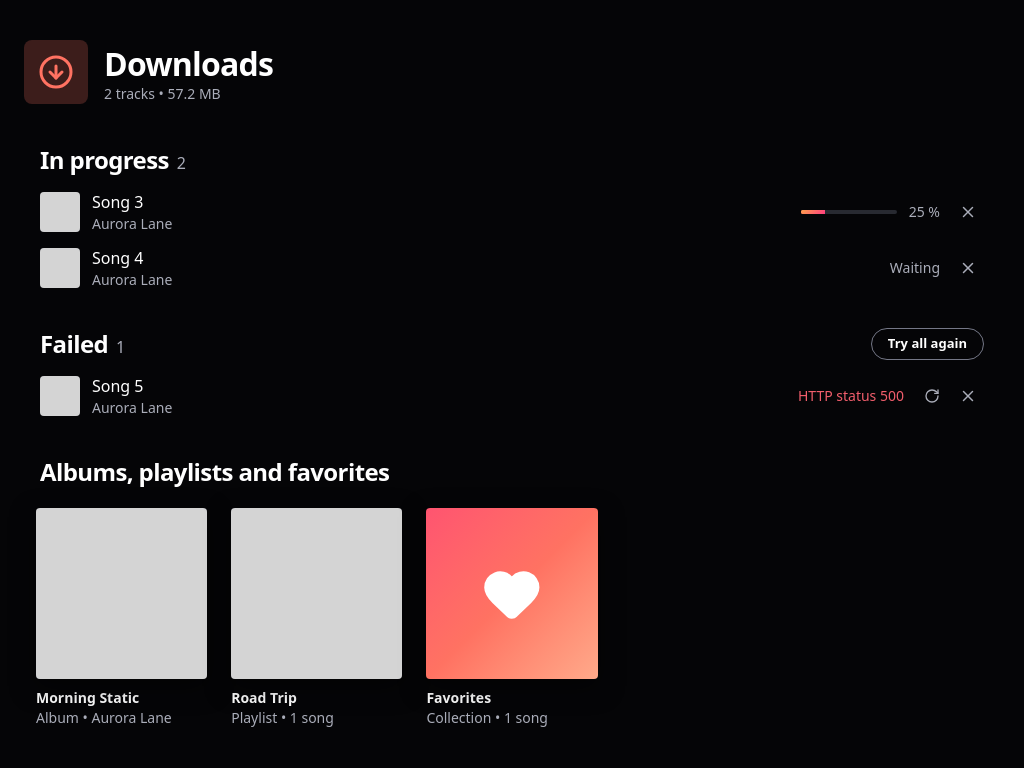
Test: downloads page › retries failed downloads one by one or all at once
This screenshot has width=1024, height=768.
Click the button named "Try again". click: click(932, 396)
box: [916, 380, 948, 412]
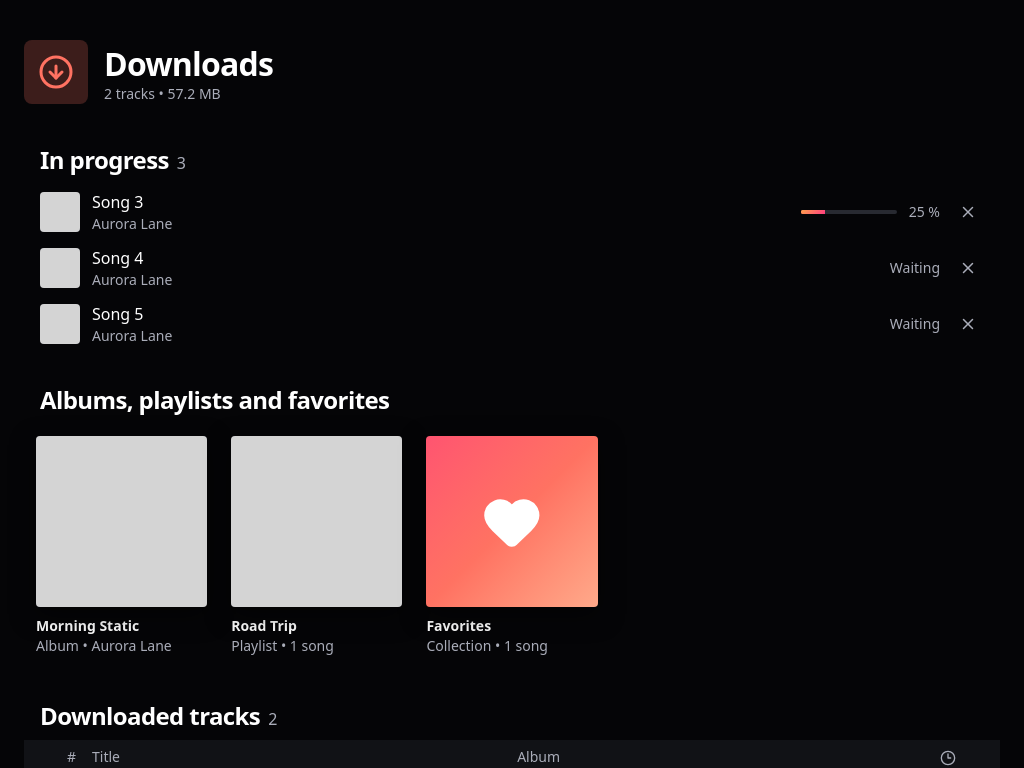
Expected: the button "Try all again" is gone
